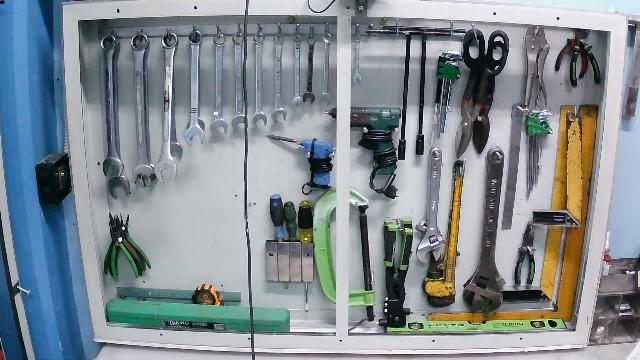kunci_l: (430, 45, 466, 146)
